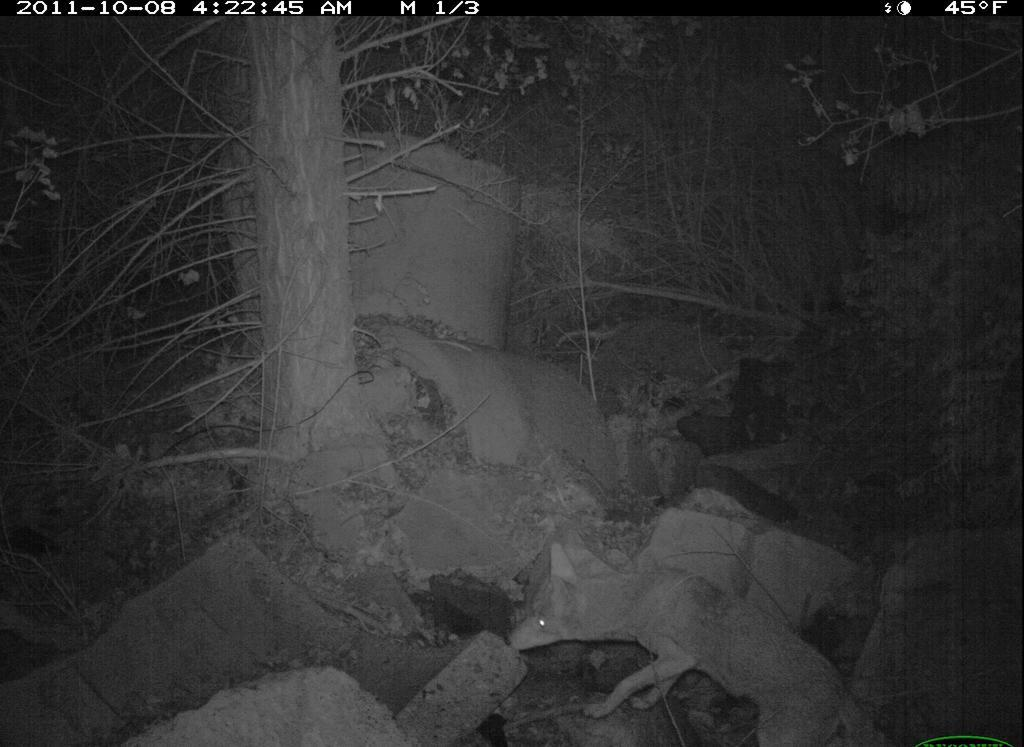coyote: (501, 535, 890, 747)
